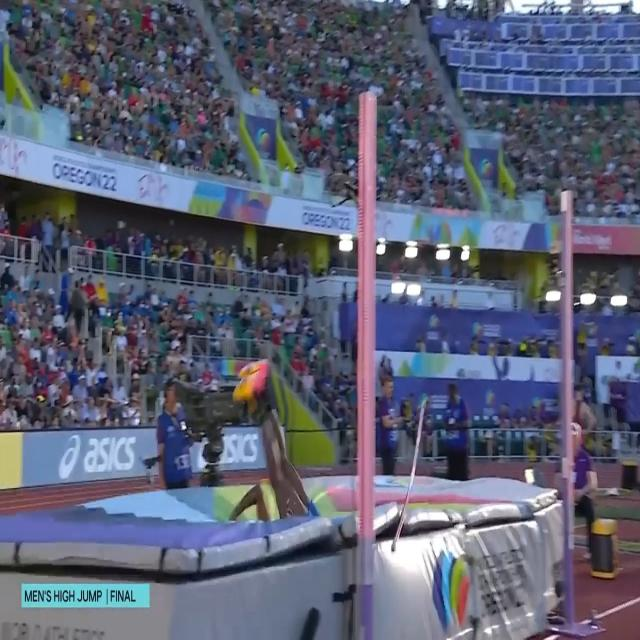land: (226, 351, 322, 514)
